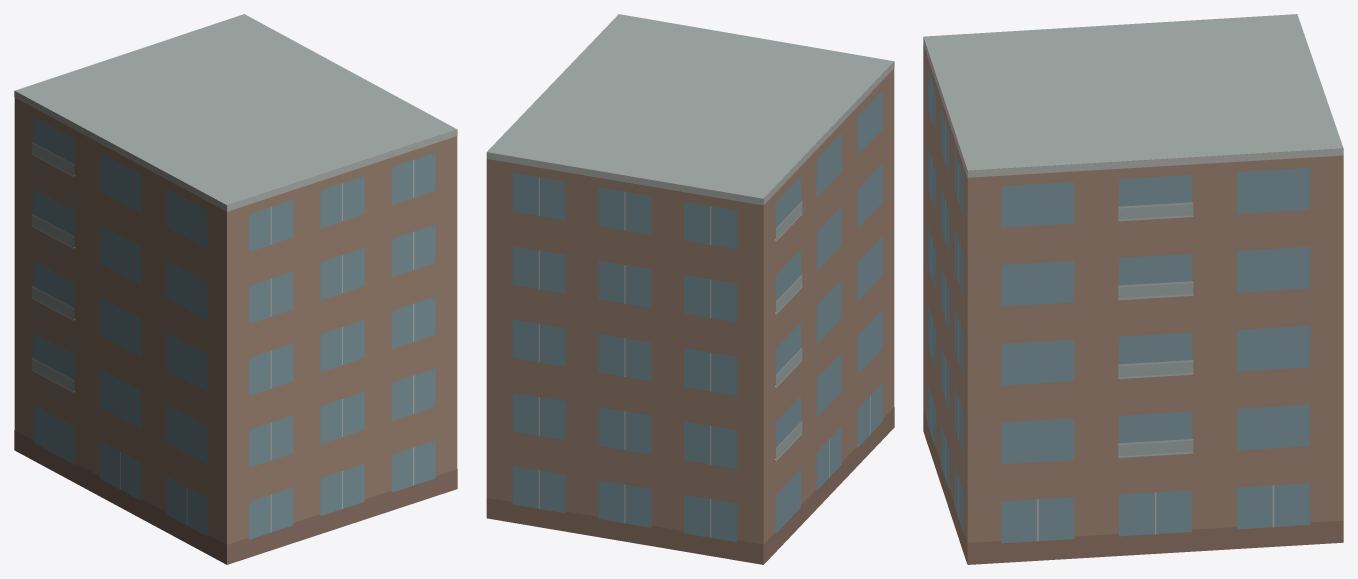
Rendered from survey-upis-32959635.glb.
3 views of the same model, side by side, from view 1: azimuth 30°, elevation 25°; view 2: azimuth 150°, elevation 25°; view 3: azimuth 270°, elevation 25° (orthographic). The views are drawn at different scales.
Visible parts, largest first — view 1: survey-upis-32959635.tmp; view 2: survey-upis-32959635.tmp; view 3: survey-upis-32959635.tmp.
Boxes of the visible parts, x1,y1,x2,y2 form: survey-upis-32959635.tmp: (14, 14, 457, 564); survey-upis-32959635.tmp: (486, 14, 894, 564); survey-upis-32959635.tmp: (923, 14, 1343, 564).
Bounding box in the file's own units: 11.33 × 13.3 × 12.86.
